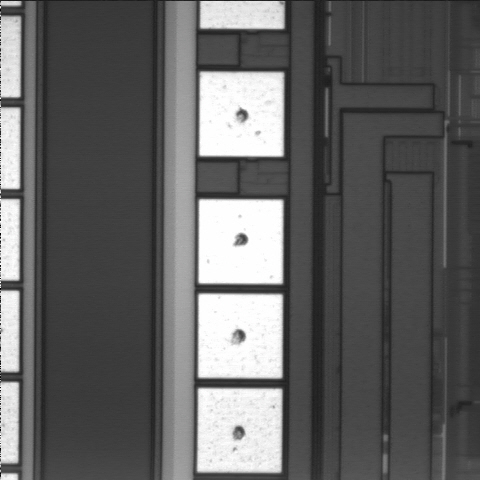pad: (199, 72, 284, 157), (198, 199, 283, 284), (197, 388, 282, 473), (198, 294, 283, 378)
